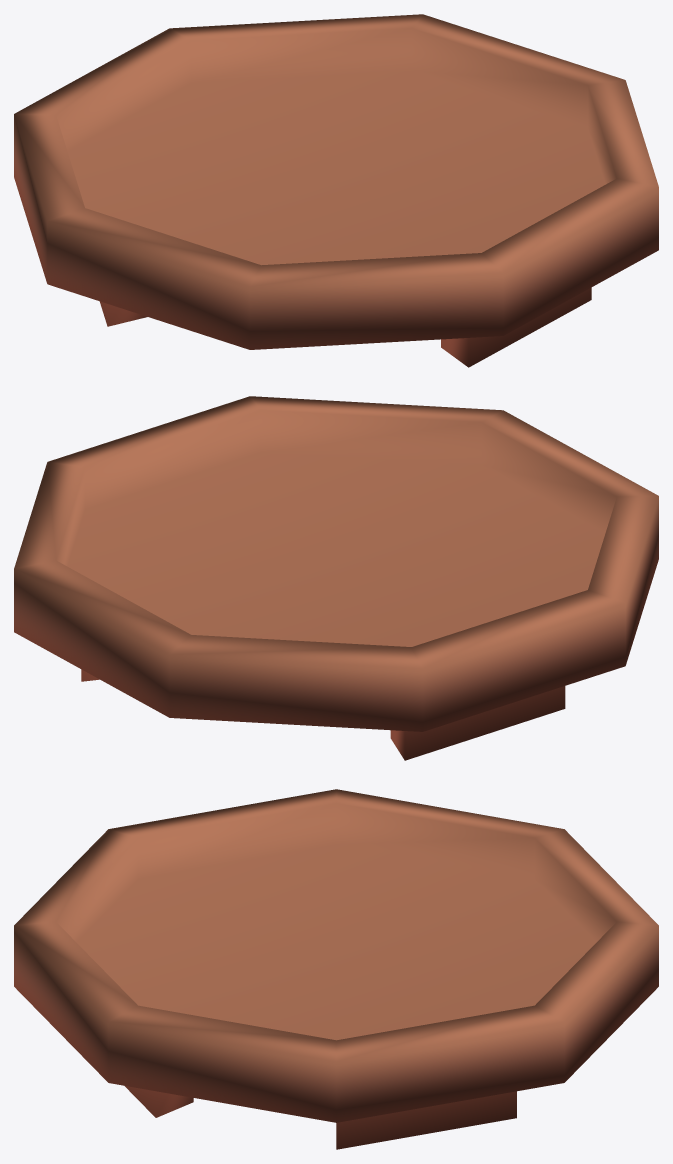
File: Claypot01.fbx
3 views of the same model, one above another, from view 1: azimuth 30°, elevation 25°; view 2: azimuth 150°, elevation 25°; view 3: azimuth 270°, elevation 25° (orthographic). The views are drawn at different scales.
Visible parts, largest first — view 1: Claypot01; view 2: Claypot01; view 3: Claypot01.
Part boxes in pixels (bbox=[...]): Claypot01: bbox=[14, 14, 658, 367]; Claypot01: bbox=[14, 396, 658, 760]; Claypot01: bbox=[14, 789, 658, 1149].
Size of the model in its own units: 0.6864 by 0.141 by 0.6864.
Materials: 1 (1 with a texture image).
